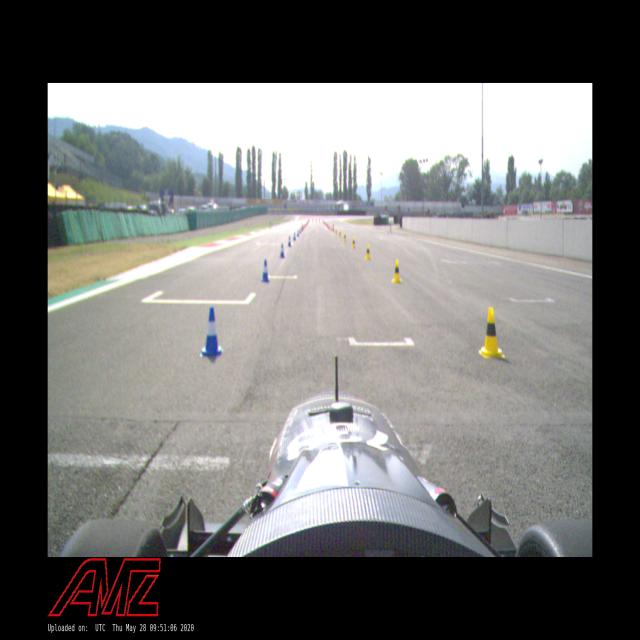blue_cone: (200, 306, 224, 357), (260, 258, 271, 283), (279, 243, 285, 258), (288, 236, 292, 246), (293, 232, 296, 240), (297, 229, 299, 237), (299, 227, 301, 234)
yellow_cone: (479, 306, 506, 361), (392, 258, 402, 284), (365, 244, 371, 260), (351, 236, 356, 248), (343, 232, 346, 242), (339, 229, 341, 238), (335, 228, 337, 235), (332, 226, 334, 232)
